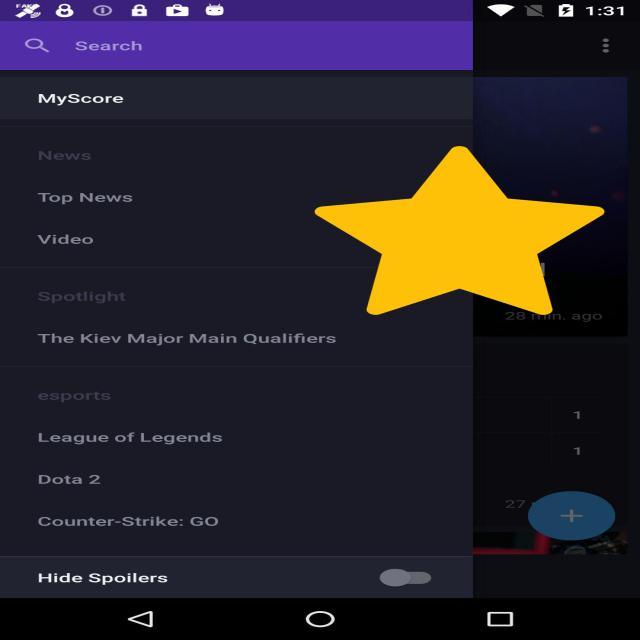forced continuity: (314, 146, 604, 315)
